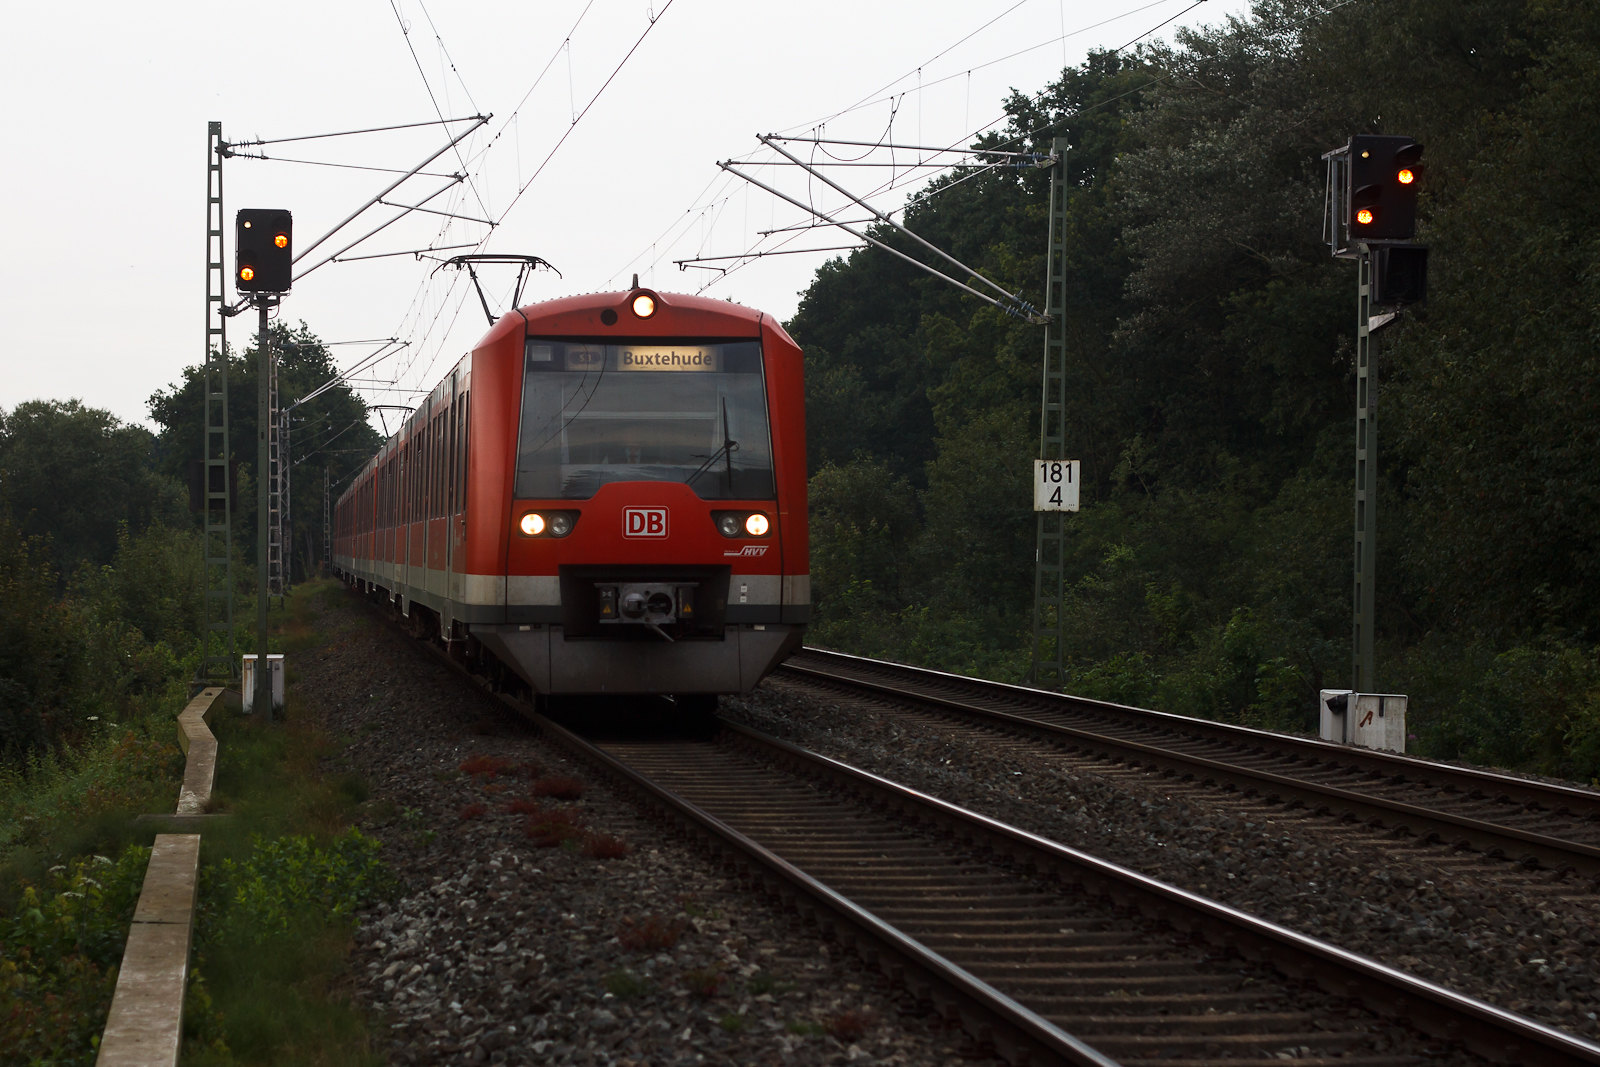train: (332, 289, 854, 715)
